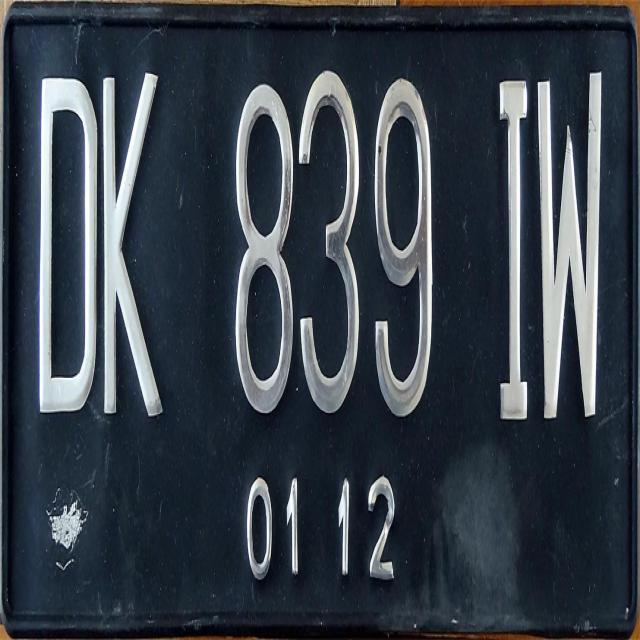3: (297, 65, 362, 430)
8: (228, 79, 297, 430)
9: (362, 65, 439, 432)
D: (34, 62, 100, 440)
I: (494, 63, 534, 424)
K: (100, 64, 166, 442)
W: (534, 58, 606, 426)
